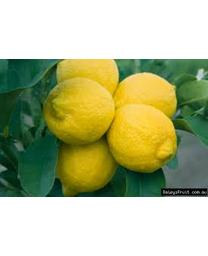lemon: (43, 77, 115, 149), (107, 104, 176, 174), (56, 137, 115, 194), (115, 72, 176, 121)
